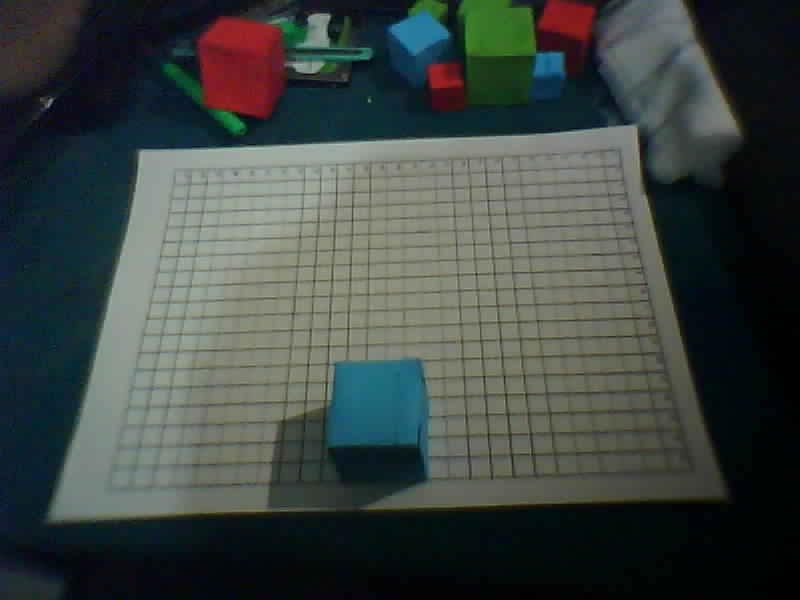blue(4x4x4): (302, 350, 460, 488)
